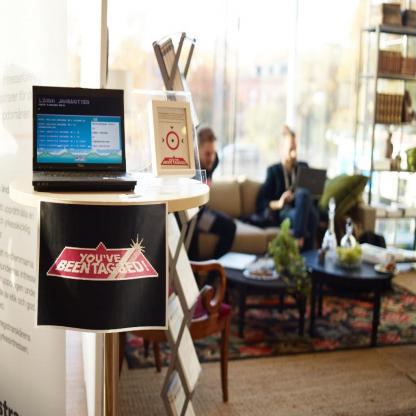board: (33, 83, 136, 191)
